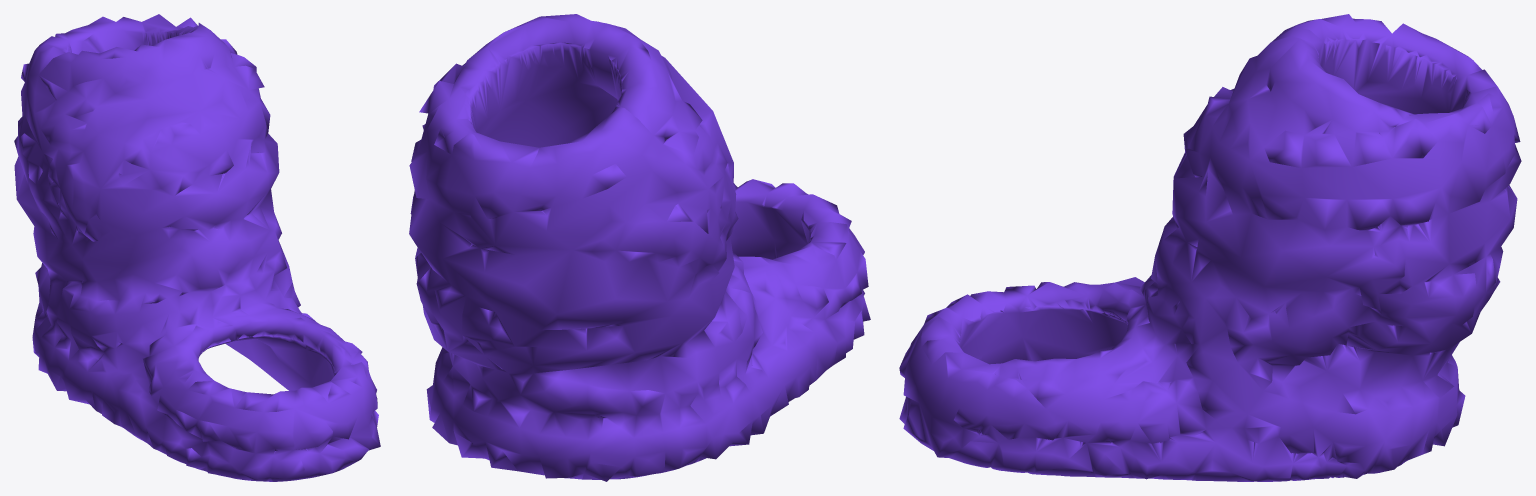
The model's file is tentacle-standard-ar.glb.
3 renders of one model, left to right at view 1: azimuth 30°, elevation 25°; view 2: azimuth 150°, elevation 25°; view 3: azimuth 270°, elevation 25°, orthographic. The views are drawn at different scales.
Size of the model in its own units: 0.0541 by 0.0728 by 0.1057.
